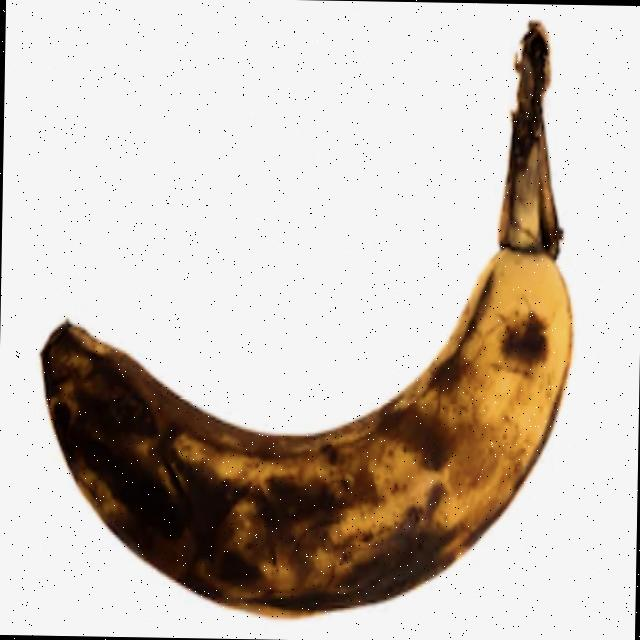rotten banana: (0, 3, 600, 640)
